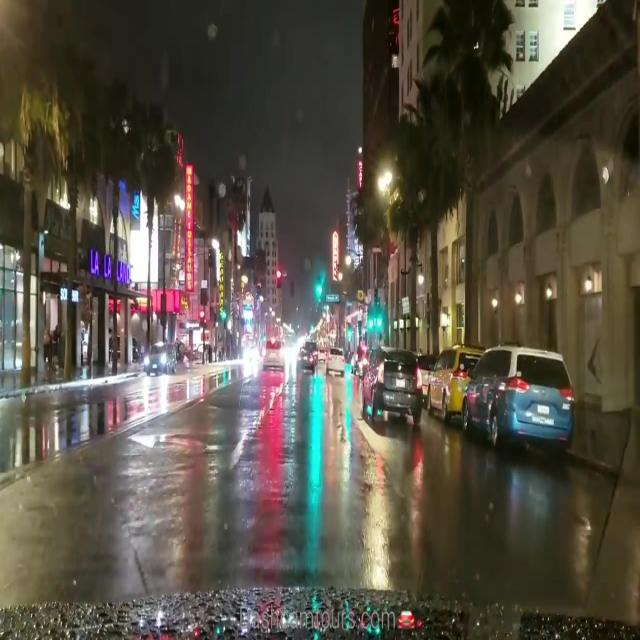Car: (459, 341, 571, 438), (363, 340, 426, 421), (425, 342, 470, 413), (142, 341, 175, 371)
